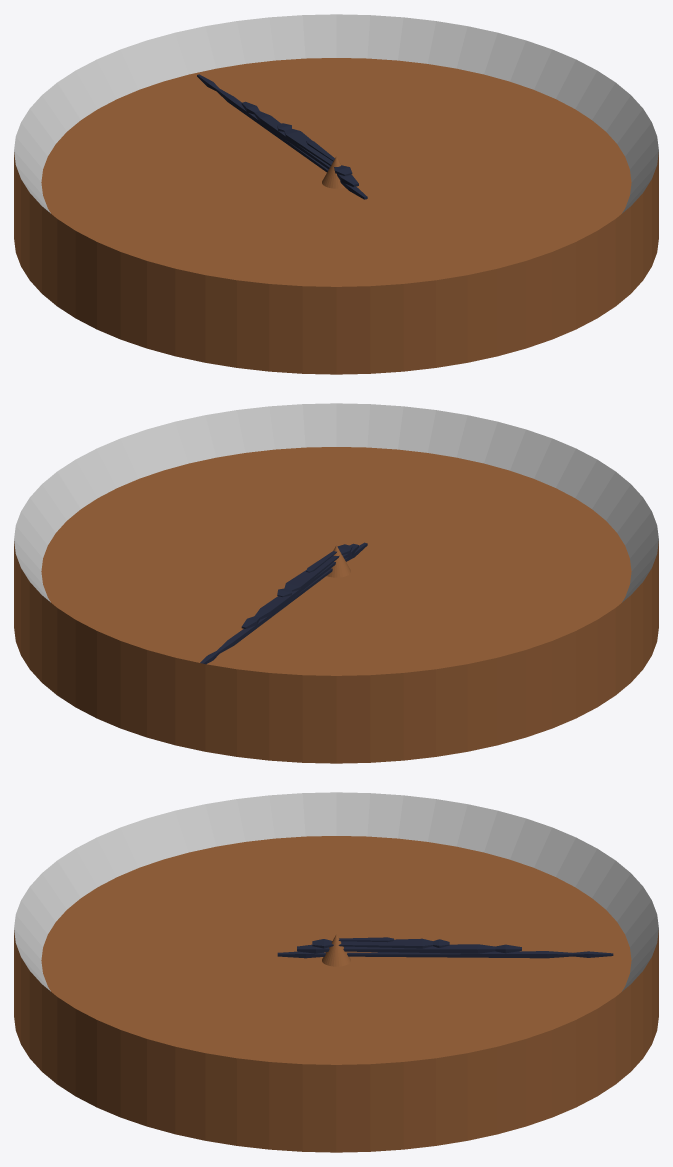
Rendered from clock_b.fbx.
3 views of the same model, one above another, from view 1: azimuth 30°, elevation 25°; view 2: azimuth 150°, elevation 25°; view 3: azimuth 270°, elevation 25° (orthographic).
Parts seen in each view (by area): view 1: Cylinder, SecondHand, MinuteHand, HourHand; view 2: Cylinder, SecondHand, MinuteHand, HourHand; view 3: Cylinder, SecondHand, MinuteHand, HourHand, Cone.
Boxes of the visible parts, bbox=[...] form: Cylinder: bbox=[14, 14, 658, 374]; SecondHand: bbox=[197, 74, 367, 199]; MinuteHand: bbox=[241, 101, 358, 186]; HourHand: bbox=[277, 123, 352, 175]; Cylinder: bbox=[14, 403, 658, 763]; SecondHand: bbox=[200, 542, 367, 664]; MinuteHand: bbox=[241, 543, 358, 628]; HourHand: bbox=[277, 544, 352, 597]; Cylinder: bbox=[14, 792, 658, 1152]; SecondHand: bbox=[277, 951, 613, 958]; MinuteHand: bbox=[297, 944, 521, 953]; HourHand: bbox=[312, 938, 449, 948]; Cone: bbox=[322, 934, 350, 966].
Size of the model in its own units: 200 by 30 by 200.
